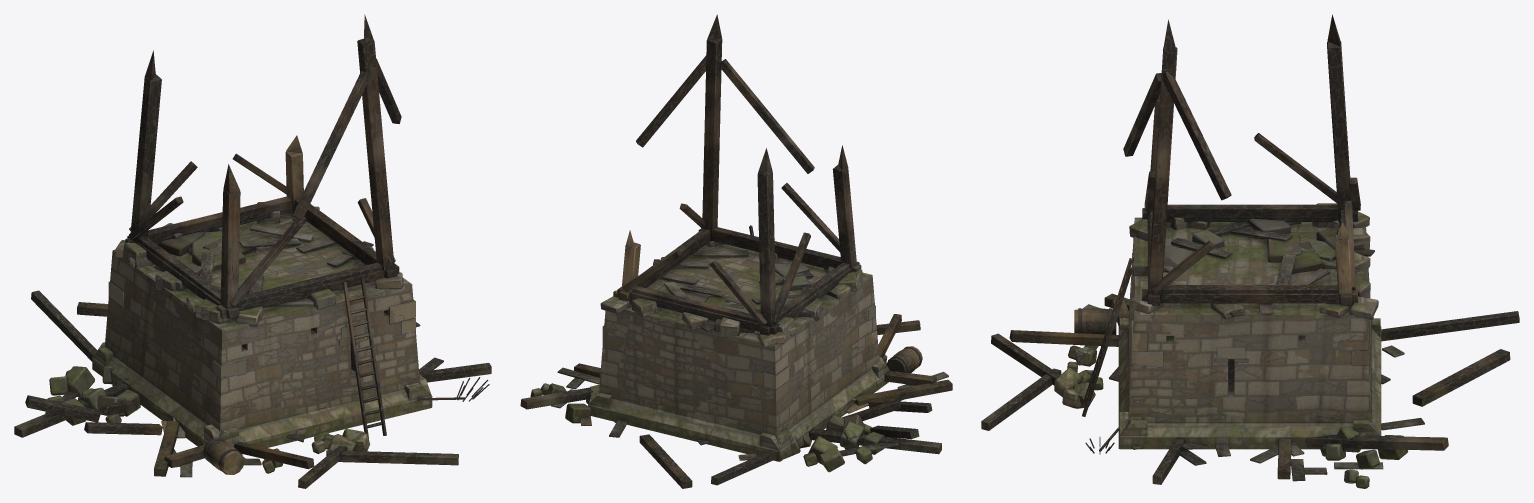
The model's file is watchtower_ruin.glb.
3 views of the same model, side by side, from view 1: azimuth 30°, elevation 25°; view 2: azimuth 150°, elevation 25°; view 3: azimuth 270°, elevation 25° (orthographic). The views are drawn at different scales.
Parts seen in each view (by area): view 1: watchtower_ruin_LOD0; view 2: watchtower_ruin_LOD0; view 3: watchtower_ruin_LOD0.
Boxes of the visible parts, left/top/right/bottom form: watchtower_ruin_LOD0: left=14, top=14, right=491, bottom=488; watchtower_ruin_LOD0: left=520, top=14, right=952, bottom=488; watchtower_ruin_LOD0: left=981, top=14, right=1519, bottom=488.
Size of what is drawn, in the model's own units: 10.92 by 9.79 by 11.48.
1 material, 1 textured.
